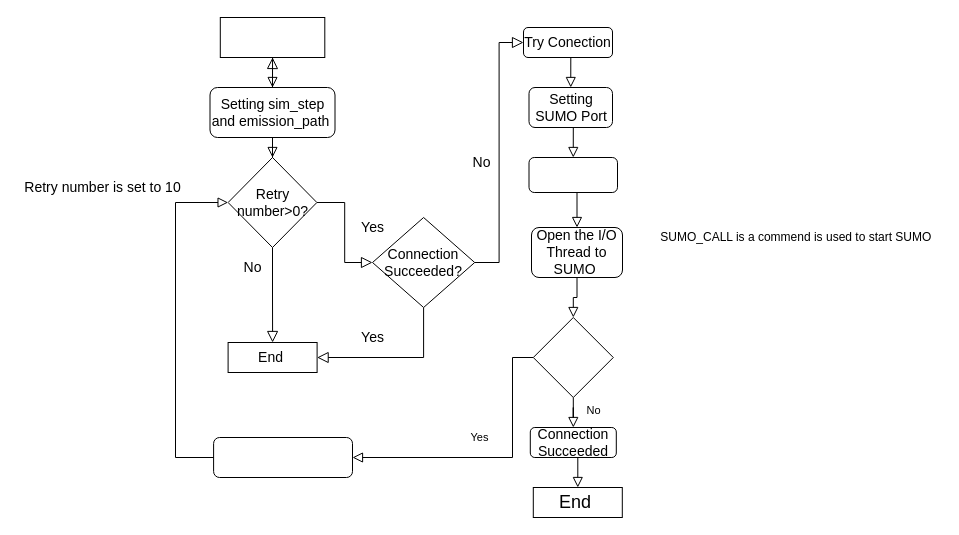
Some shapes in this 959 by 535 pixel diagram are drawn without their labels. The box of each missing label's shape, as (x1, y1, x2, y2) in pixels:
Retry Number-1: (213, 436, 352, 478)
Setting the SUMO_CALL: (528, 156, 618, 192)
Start: (219, 16, 325, 58)
Time out？: (532, 316, 613, 398)
